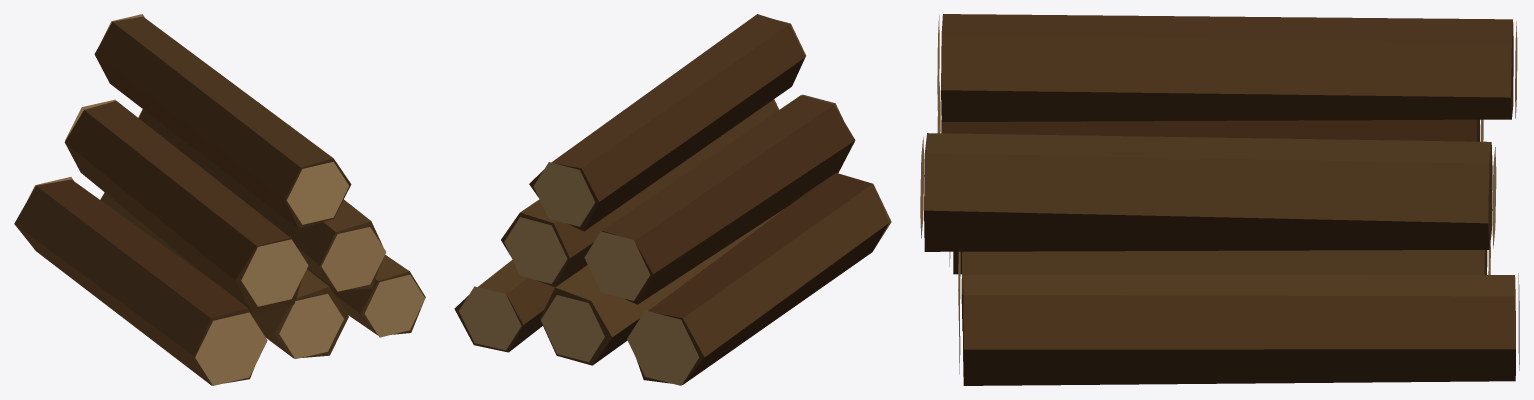
Rendered from storage_wood.glb.
The picture shows the model from 3 angles, left to right: view 1: azimuth 30°, elevation 25°; view 2: azimuth 150°, elevation 25°; view 3: azimuth 270°, elevation 25°; orthographic projection. The views are drawn at different scales.
Visible parts, largest first — view 1: storage_wood; view 2: storage_wood; view 3: storage_wood.
Part boxes in pixels (<box>): storage_wood: <box>14,14,425,385</box>; storage_wood: <box>454,14,891,385</box>; storage_wood: <box>920,14,1519,385</box>.
Bounding box in the file's own units: 1.06 × 0.8849 × 1.61.
